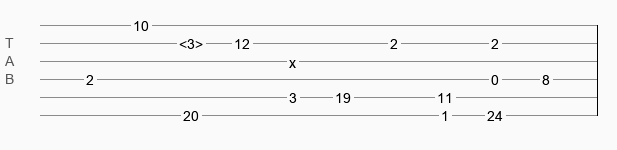0: (491, 72, 499, 82)
1: (441, 108, 449, 118)
10: (133, 18, 149, 28)
11: (437, 90, 453, 100)
12: (234, 36, 250, 46)
19: (335, 90, 351, 100)
2: (86, 72, 94, 82), (390, 36, 398, 46), (491, 36, 499, 46)
20: (183, 108, 199, 118)
24: (487, 108, 503, 118)
3: (289, 90, 297, 100)
8: (542, 72, 550, 82)
harmonic: (179, 36, 203, 46)
x: (289, 55, 296, 63)
